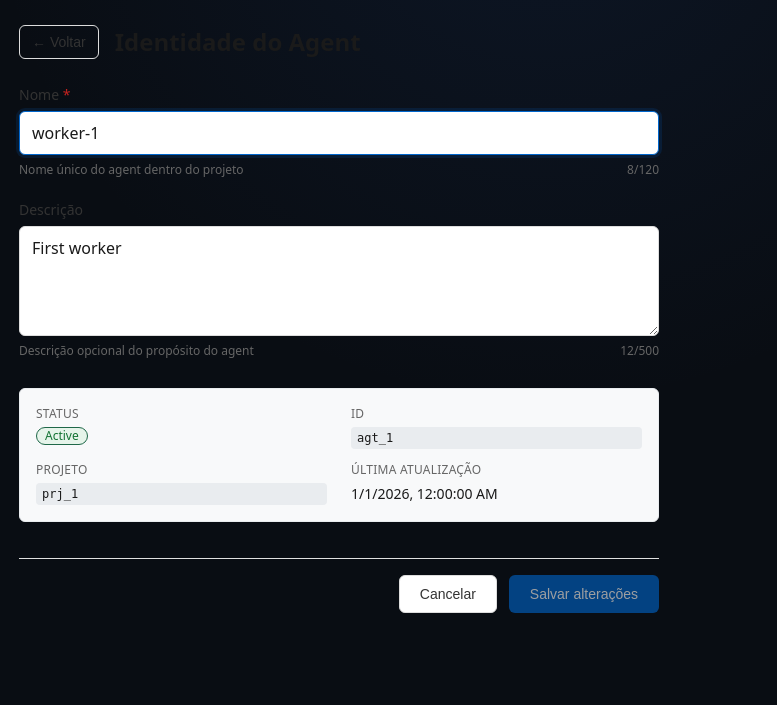
Test: AgentIdentityPage › validates required name field
# Clear the name
Clear the field labelled "Nome *" at (339, 133), box [19,111,659,155]
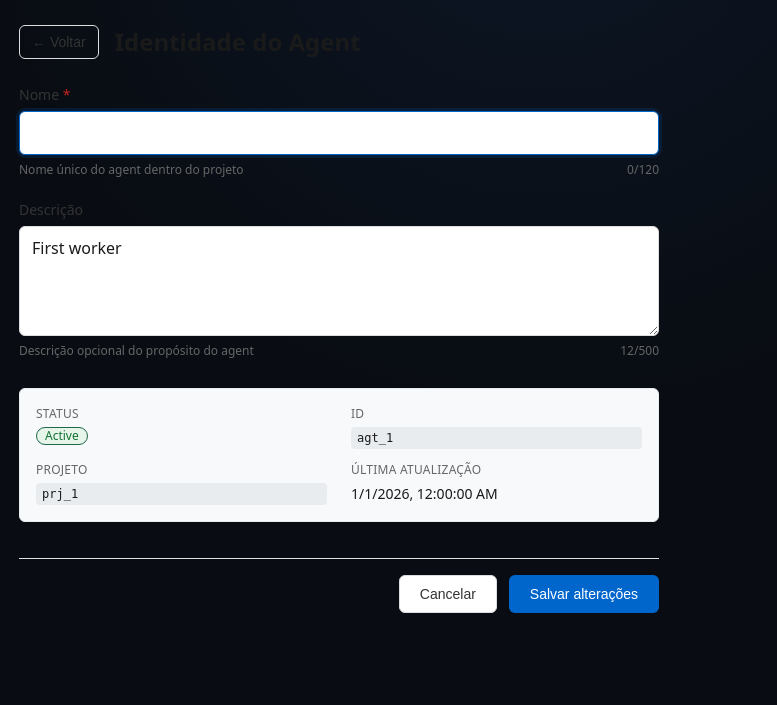
Click the button "Salvar alterações" at (584, 594), box [509,575,659,613]
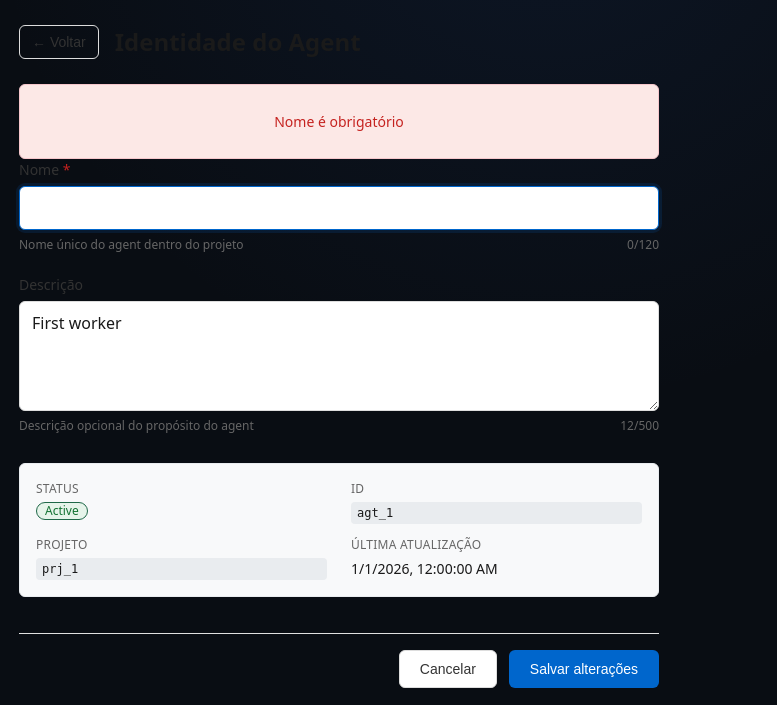
Check: the text "Nome é obrigatório" is shown, box [274,112,404,131]
